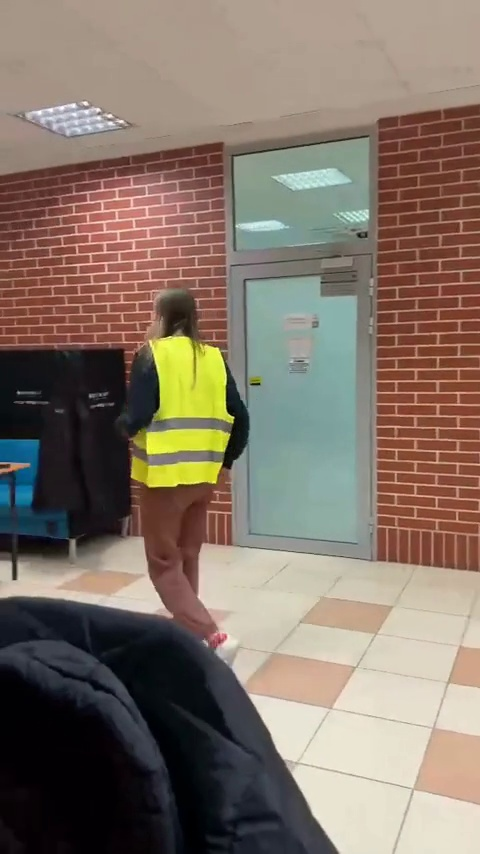vest: (115, 285, 257, 669)
